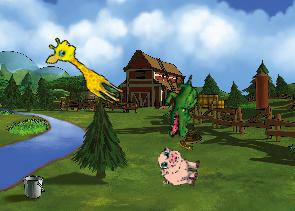crocodile: (159, 74, 204, 139)
giraffe: (40, 33, 132, 108)
pig: (154, 145, 202, 190)
